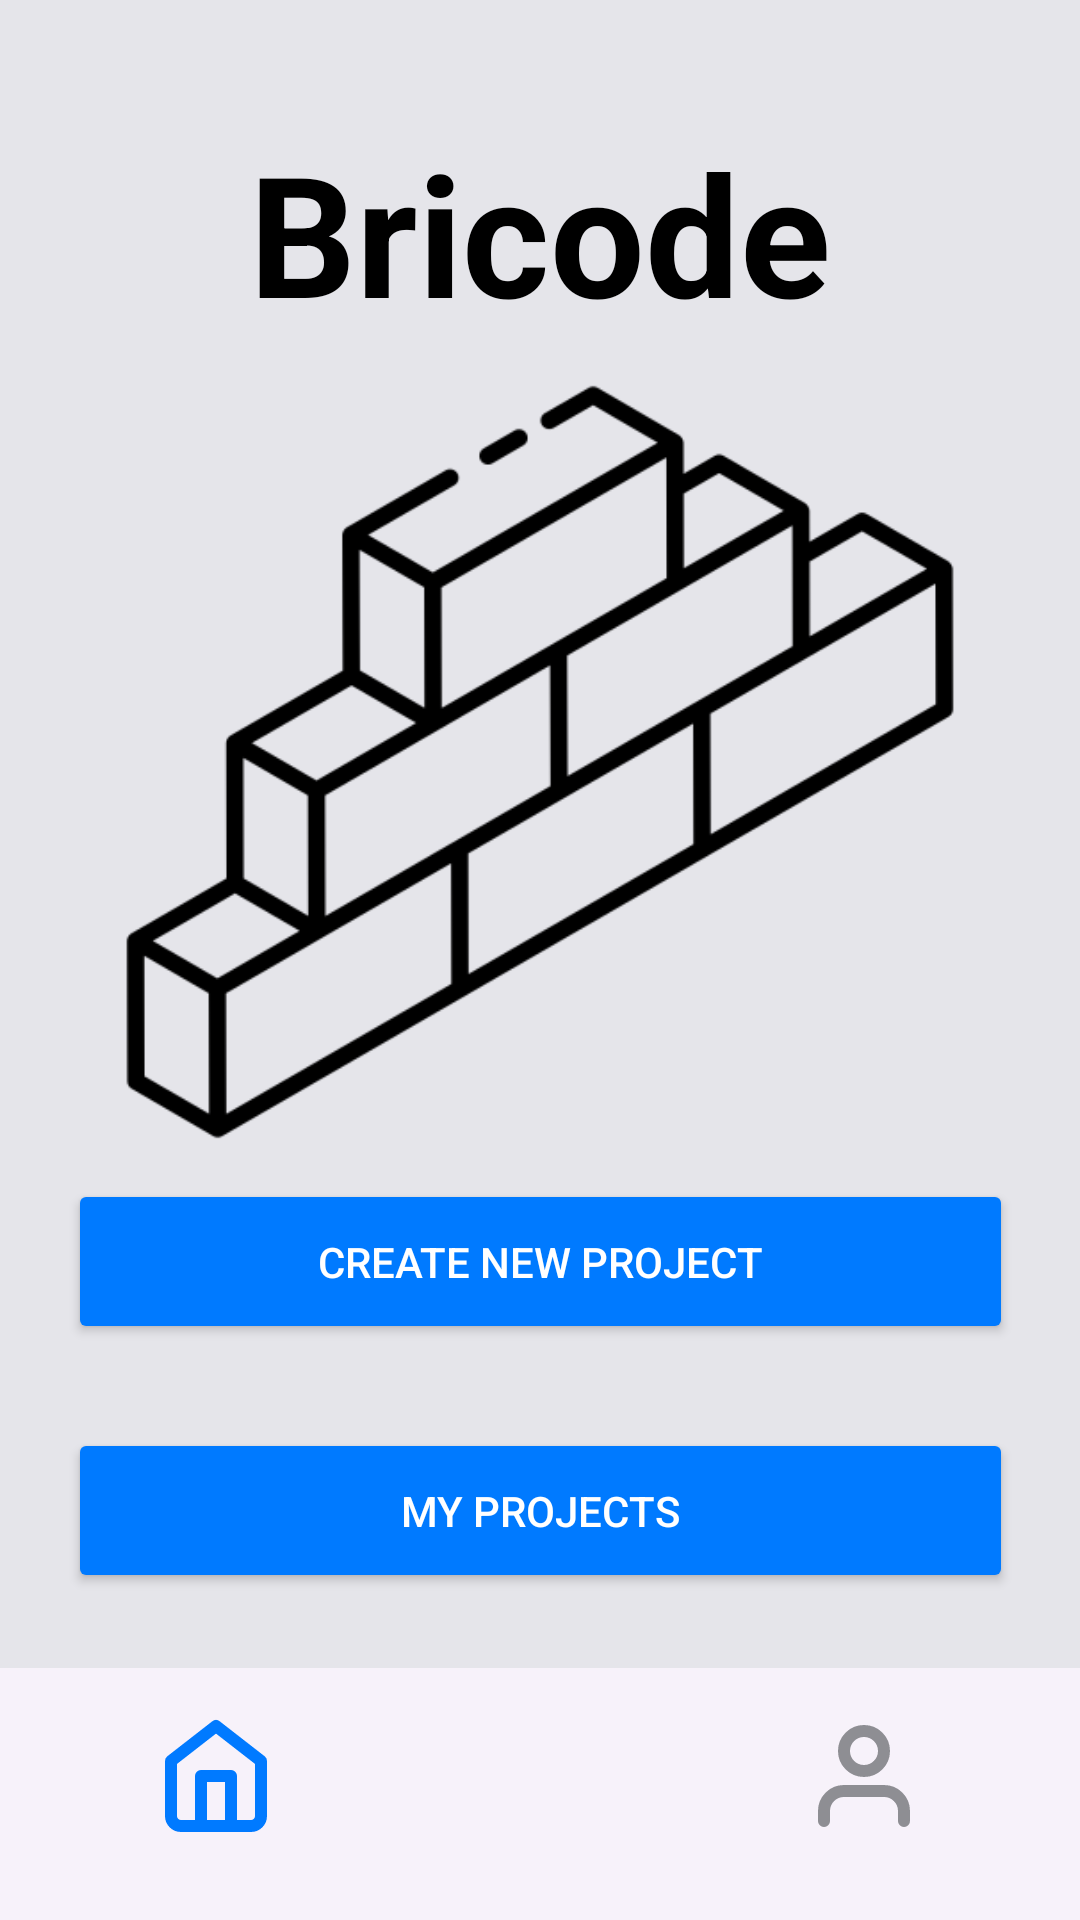

Where to tap for icons on this 1080x1920 app screen, as (x=x, y=y):
home used: (x=216, y=1776)
user not used: (x=864, y=1776)
